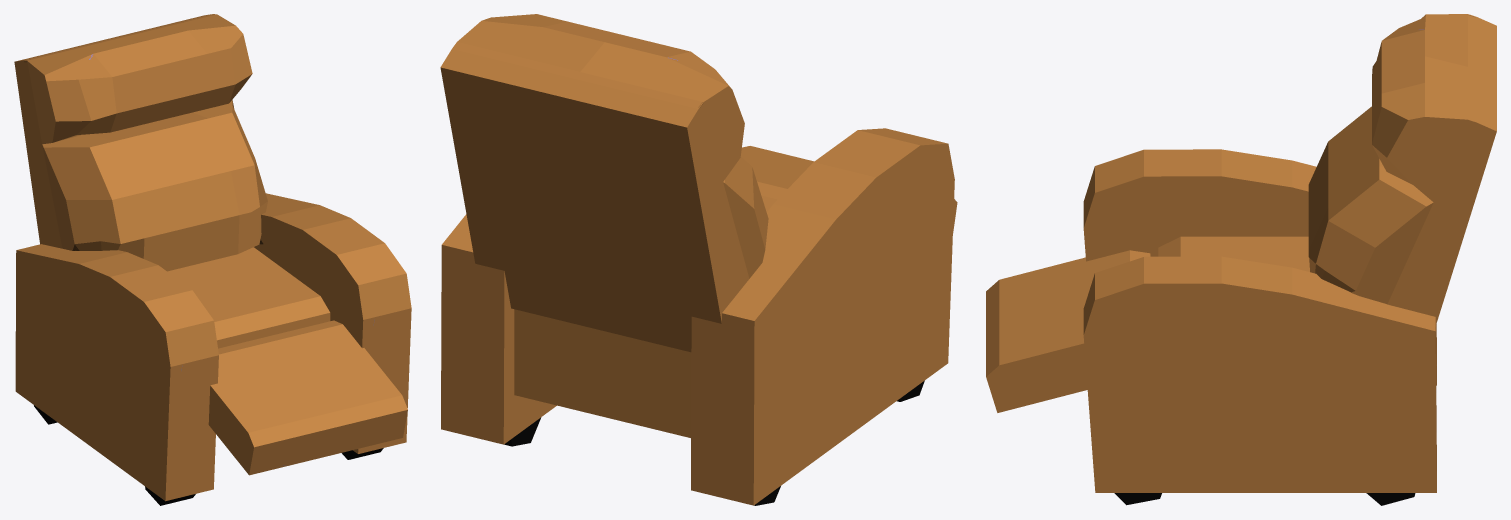
Rendered from recliner.glb.
The picture shows the model from 3 angles, left to right: view 1: azimuth 30°, elevation 25°; view 2: azimuth 150°, elevation 25°; view 3: azimuth 270°, elevation 25°; orthographic projection. The views are drawn at different scales.
Visible parts, largest first — view 1: Cube.010, Cube.012, Cube.008, Cube.011, Cube.009; view 2: Cube.010, Cube.012, Cube.007, Cube.011, Cube.008; view 3: Cube.011, Cube.010, Cube.012, Cube.008, Cube.009.
Part boxes in pixels (<box>): Cube.010: <box>14,14,267,271</box>; Cube.012: <box>15,244,218,501</box>; Cube.008: <box>208,320,407,475</box>; Cube.011: <box>254,193,411,453</box>; Cube.009: <box>167,247,330,348</box>; Cube.010: <box>440,14,768,352</box>; Cube.012: <box>691,128,954,505</box>; Cube.007: <box>514,309,691,437</box>; Cube.011: <box>441,214,556,444</box>; Cube.008: <box>741,146,957,232</box>; Cube.011: <box>1083,256,1436,492</box>; Cube.010: <box>1308,14,1496,325</box>; Cube.012: <box>1083,149,1436,385</box>; Cube.008: <box>986,250,1150,412</box>; Cube.009: <box>1158,236,1309,271</box>.
Size of the model in its own units: 3.69 by 4.99 by 5.94.
Materials: 1 (1 with a texture image).
